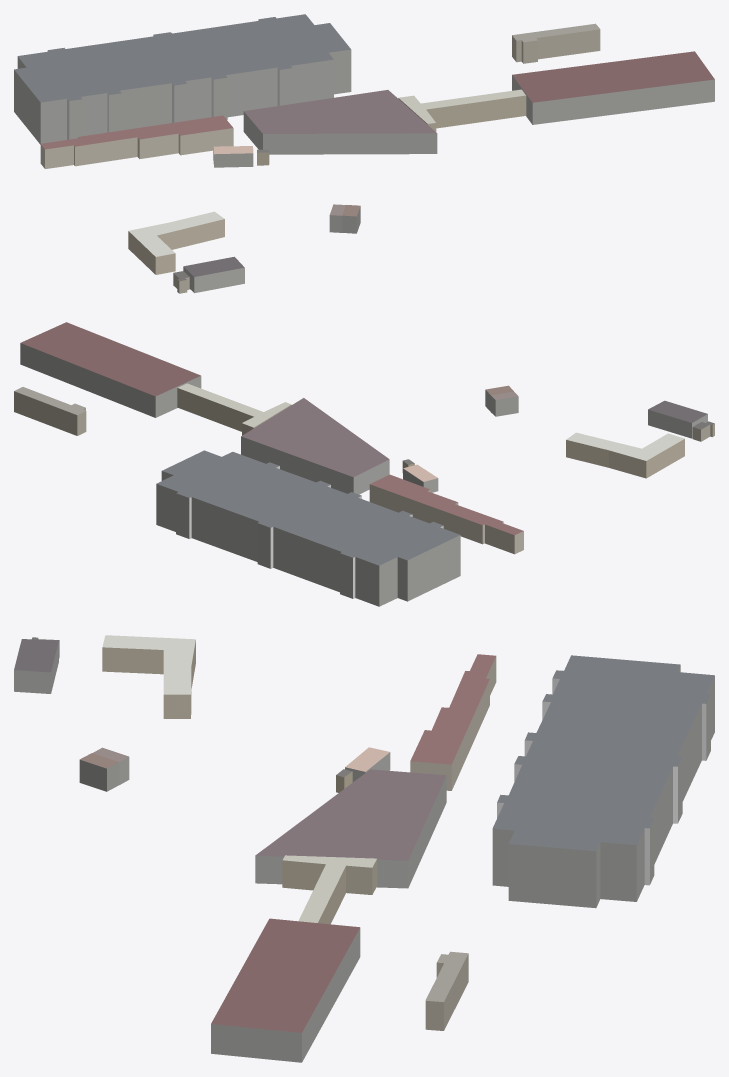
3 renders of one model, top to bottom at view 1: azimuth 30°, elevation 25°; view 2: azimuth 150°, elevation 25°; view 3: azimuth 270°, elevation 25°, orthographic. The views are drawn at different scales.
Visible parts, largest first — view 1: tuile; view 2: tuile; view 3: tuile.
Part boxes in pixels (left/top/right/bottom): tuile: left=14, top=14, right=714, bottom=293; tuile: left=14, top=322, right=714, bottom=606; tuile: left=14, top=635, right=714, bottom=1062.
Bounding box in the file's own units: 255 × 16.79 × 187.
